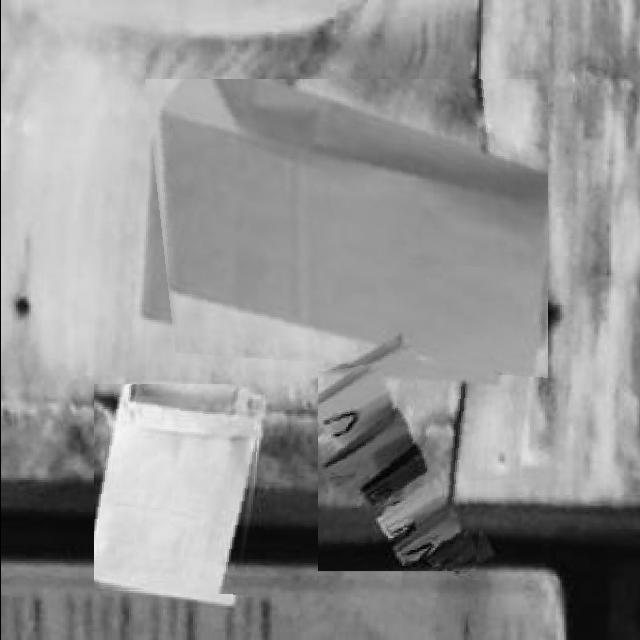PaperCardboard: (152, 79, 547, 377), (93, 384, 259, 594), (317, 366, 477, 571)
